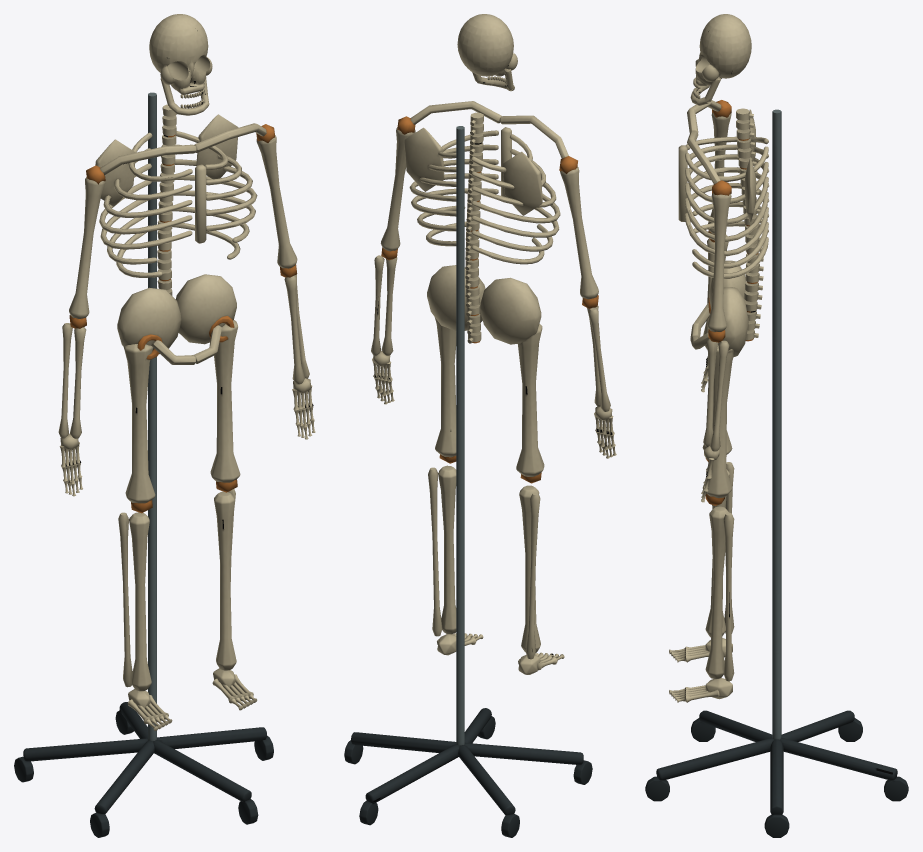
Rendered from skeleton.glb.
The picture shows the model from 3 angles, left to right: view 1: azimuth 30°, elevation 25°; view 2: azimuth 150°, elevation 25°; view 3: azimuth 270°, elevation 25°; orthographic projection. The views are drawn at different scales.
Parts seen in each view (by area): view 1: skeleton_torso_10, skeleton_static_0, skeleton_pelvis_9, skeleton_head_20, skeleton_shin_left_7, skeleton_thigh_left_6, skeleton_thigh_right_14, skeleton_shin_right_15, skeleton_upper_arm_left_11, skeleton_upper_arm_right_17, skeleton_forearm_left_12, skeleton_forearm_right_18 (+4 smaller); view 2: skeleton_torso_10, skeleton_static_0, skeleton_pelvis_9, skeleton_shin_right_15, skeleton_head_20, skeleton_thigh_left_6, skeleton_shin_left_7, skeleton_thigh_right_14, skeleton_upper_arm_left_11, skeleton_upper_arm_right_17, skeleton_forearm_right_18, skeleton_forearm_left_12 (+4 smaller); view 3: skeleton_static_0, skeleton_torso_10, skeleton_shin_right_15, skeleton_head_20, skeleton_pelvis_9, skeleton_upper_arm_right_17, skeleton_forearm_right_18, skeleton_thigh_right_14, skeleton_foot_right_16, skeleton_upper_arm_left_11, skeleton_shin_left_7, skeleton_foot_left_8 (+1 smaller).
Part boxes in pixels (<box>): skeleton_torso_10: <box>95,104,266,289</box>; skeleton_static_0: <box>23,92,266,814</box>; skeleton_pelvis_9: <box>117,274,236,364</box>; skeleton_head_20: <box>149,14,212,115</box>; skeleton_shin_left_7: <box>118,500,152,691</box>; skeleton_thigh_left_6: <box>123,344,155,503</box>; skeleton_thigh_right_14: <box>210,320,240,482</box>; skeleton_shin_right_15: <box>214,479,237,670</box>; skeleton_upper_arm_left_11: <box>69,165,105,318</box>; skeleton_upper_arm_right_17: <box>256,124,297,268</box>; skeleton_forearm_left_12: <box>58,315,86,438</box>; skeleton_forearm_right_18: <box>279,264,309,384</box>; skeleton_torso_10: <box>404,101,568,298</box>; skeleton_static_0: <box>351,126,583,815</box>; skeleton_pelvis_9: <box>427,265,541,344</box>; skeleton_shin_right_15: <box>428,454,456,636</box>; skeleton_head_20: <box>457,14,517,91</box>; skeleton_thigh_left_6: <box>516,324,544,476</box>; skeleton_shin_left_7: <box>519,472,541,659</box>; skeleton_thigh_right_14: <box>434,317,456,457</box>; skeleton_upper_arm_left_11: <box>559,156,598,299</box>; skeleton_upper_arm_right_17: <box>380,116,415,251</box>; skeleton_forearm_right_18: <box>371,247,397,355</box>; skeleton_forearm_left_12: <box>582,295,610,411</box>; skeleton_static_0: <box>656,109,897,814</box>; skeleton_torso_10: <box>678,100,769,292</box>; skeleton_shin_right_15: <box>705,494,734,681</box>; skeleton_head_20: <box>690,14,751,105</box>; skeleton_pelvis_9: <box>690,260,762,356</box>; skeleton_upper_arm_right_17: <box>707,180,731,331</box>; skeleton_forearm_right_18: <box>703,329,729,451</box>; skeleton_thigh_right_14: <box>702,345,733,498</box>; skeleton_foot_right_16: <box>669,678,732,702</box>; skeleton_upper_arm_left_11: <box>708,100,731,234</box>; skeleton_shin_left_7: <box>705,458,734,637</box>; skeleton_foot_left_8: <box>669,638,732,662</box>.
Size of the model in its own units: 0.5641 by 1.69 by 0.5248.
Materials: 1 (1 with a texture image).
